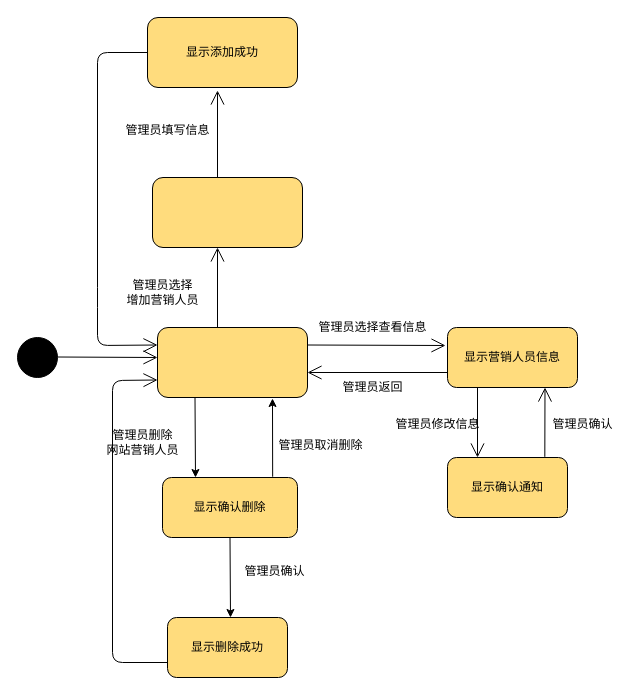
Some shapes in this 640 by 695 pixel diagram are drawn without their labels. Here are the shapes that lost their labels. From the top down, the centre of each, then its label:
At [227,212]: "显示空白模板".
At [232,362]: "显示所有营销人员信息".
